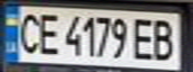1: (78, 12, 96, 57)
4: (60, 11, 81, 56)
7: (93, 12, 112, 59)
9: (109, 13, 133, 60)
B: (148, 16, 181, 62)
C: (12, 9, 42, 55)
E: (33, 9, 63, 56), (130, 15, 160, 61)
